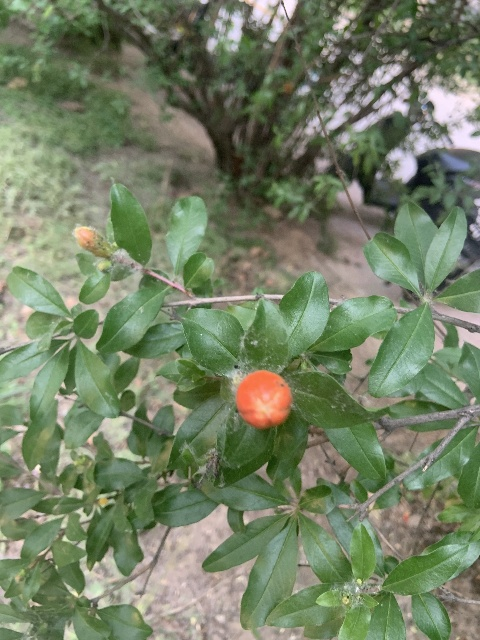bud: (235, 370, 292, 430)
